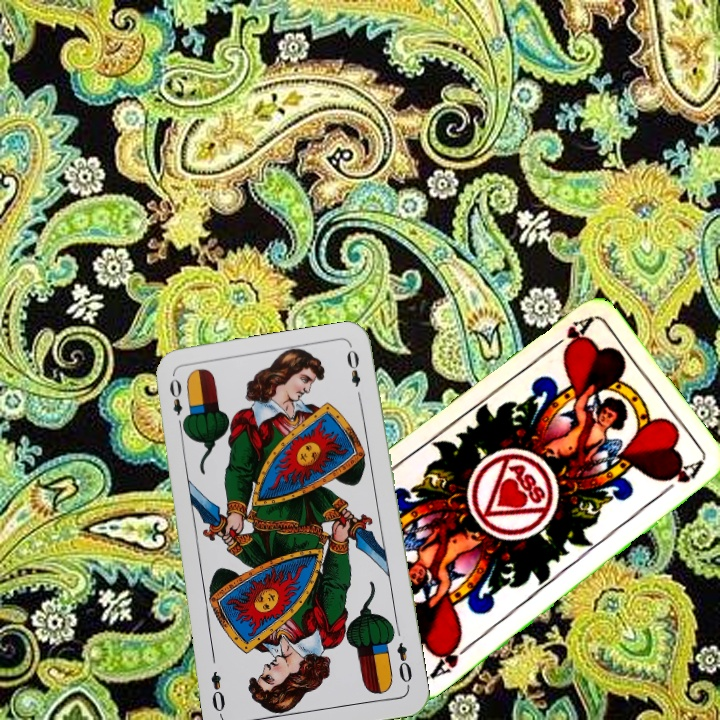EO: (165, 374, 190, 432), (393, 638, 415, 690)
HA: (424, 635, 475, 682), (542, 313, 595, 358)
